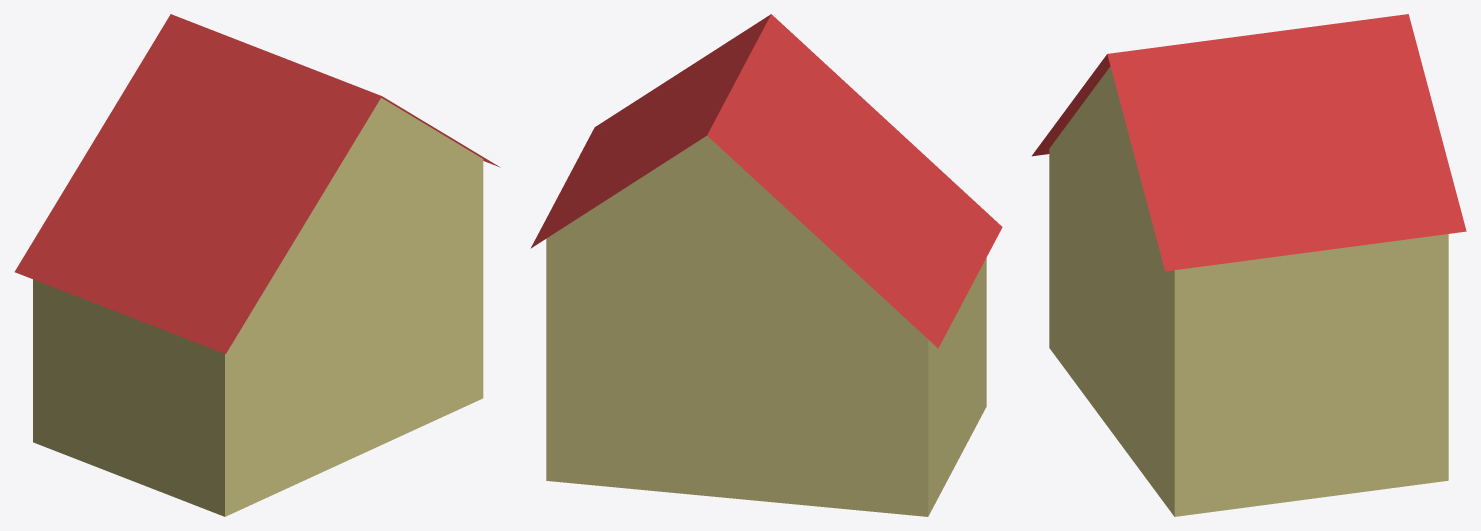
3 renders of one model, left to right at view 1: azimuth 30°, elevation 25°; view 2: azimuth 150°, elevation 25°; view 3: azimuth 270°, elevation 25°, orthographic. The views are drawn at different scales.
Size of the model in its own units: 18.24 by 15.21 by 15.13.
